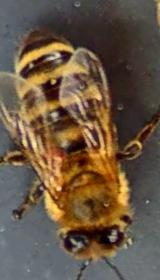varroa_mite: (40, 140, 82, 176)
